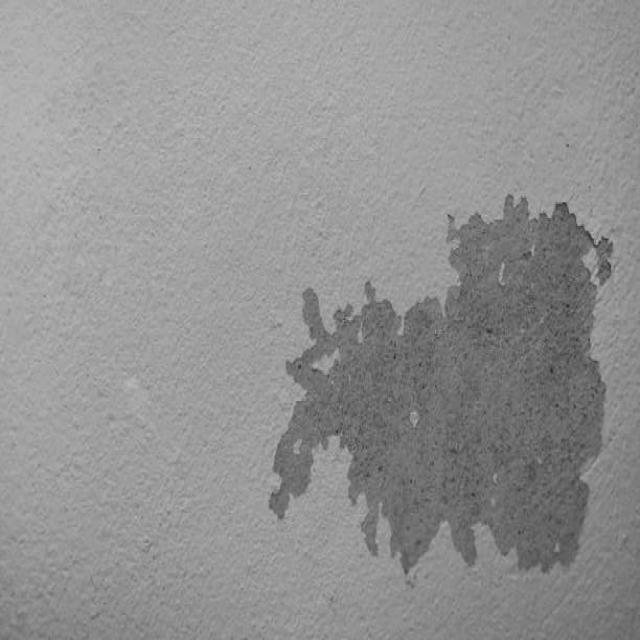peeling paint: (254, 162, 630, 608)
